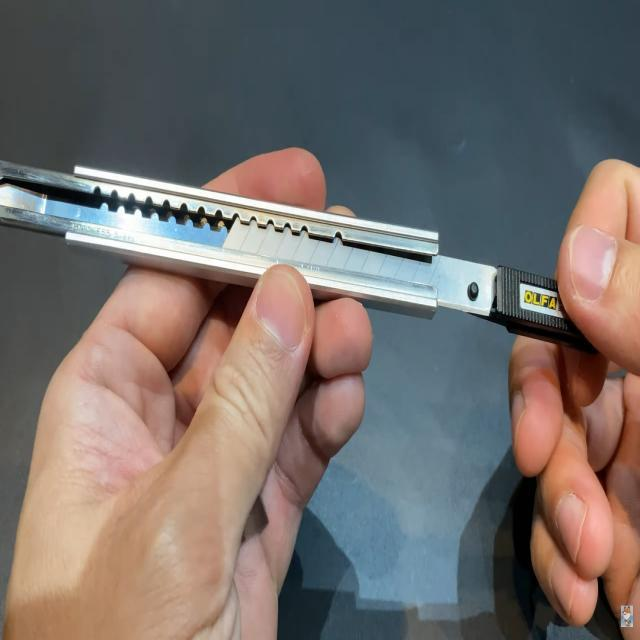cutter: (4, 92, 640, 507)
